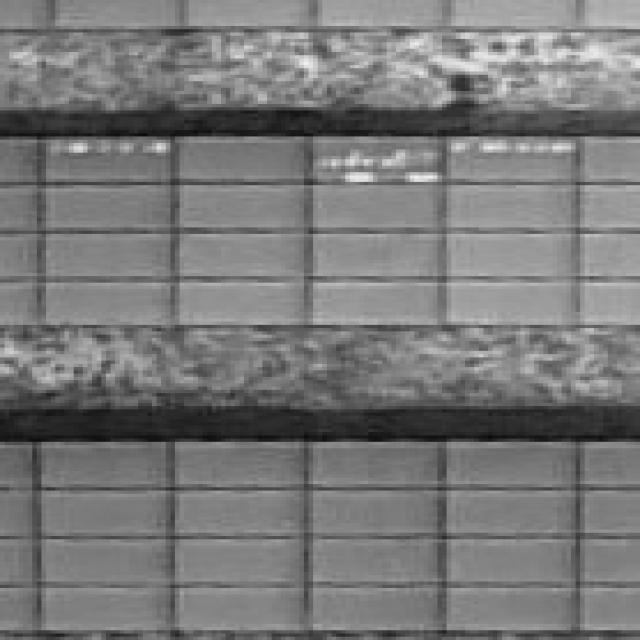Hotspot: (506, 141, 578, 154), (401, 171, 441, 183), (67, 139, 90, 158), (478, 139, 506, 153), (339, 171, 377, 181), (150, 139, 168, 154)
Panel: (0, 439, 640, 635), (0, 137, 640, 326), (0, 2, 640, 29)
